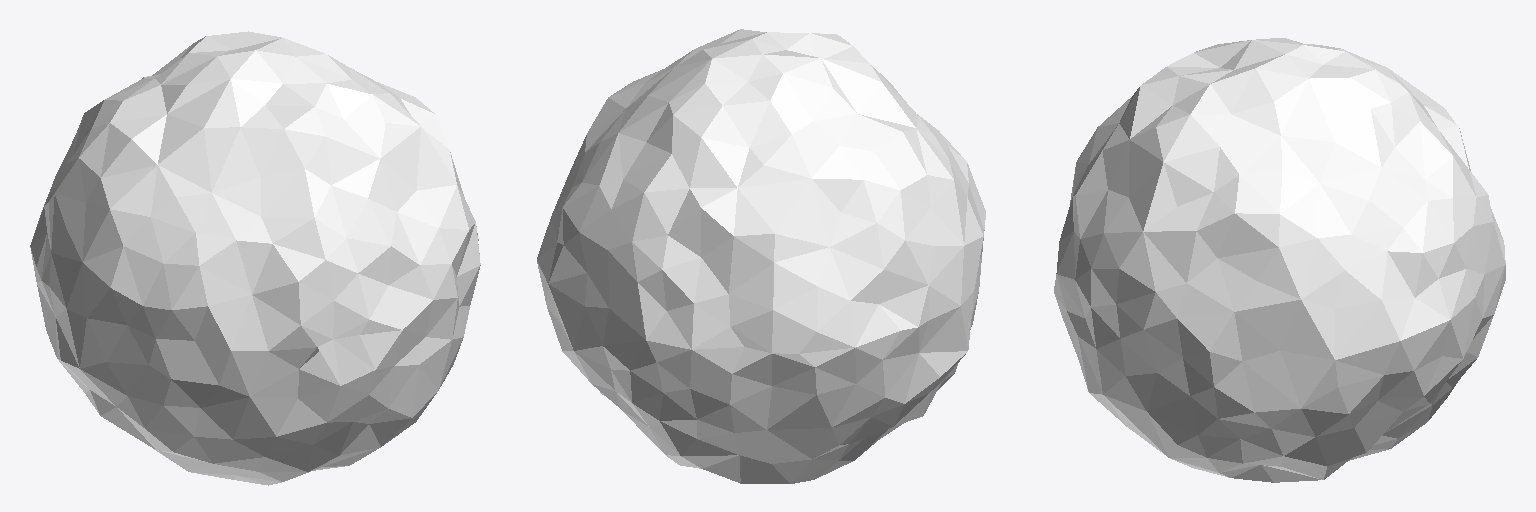
File: meteor.obj
3 renders of one model, left to right at view 1: azimuth 30°, elevation 25°; view 2: azimuth 150°, elevation 25°; view 3: azimuth 270°, elevation 25°, orthographic.
Parts seen in each view (by area): view 1: modelsparticlemeteorvmdl_cmeteor_model; view 2: modelsparticlemeteorvmdl_cmeteor_model; view 3: modelsparticlemeteorvmdl_cmeteor_model.
Boxes of the visible parts, x1=… form: modelsparticlemeteorvmdl_cmeteor_model: x1=30, y1=31, x2=480, y2=485; modelsparticlemeteorvmdl_cmeteor_model: x1=537, y1=29, x2=985, y2=483; modelsparticlemeteorvmdl_cmeteor_model: x1=1054, y1=38, x2=1505, y2=482.
Bounding box in the file's own units: 186 × 189 × 191.